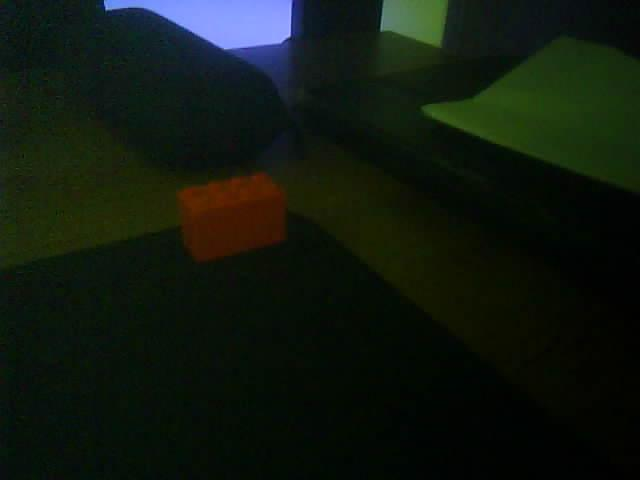lego: (175, 171, 287, 260)
